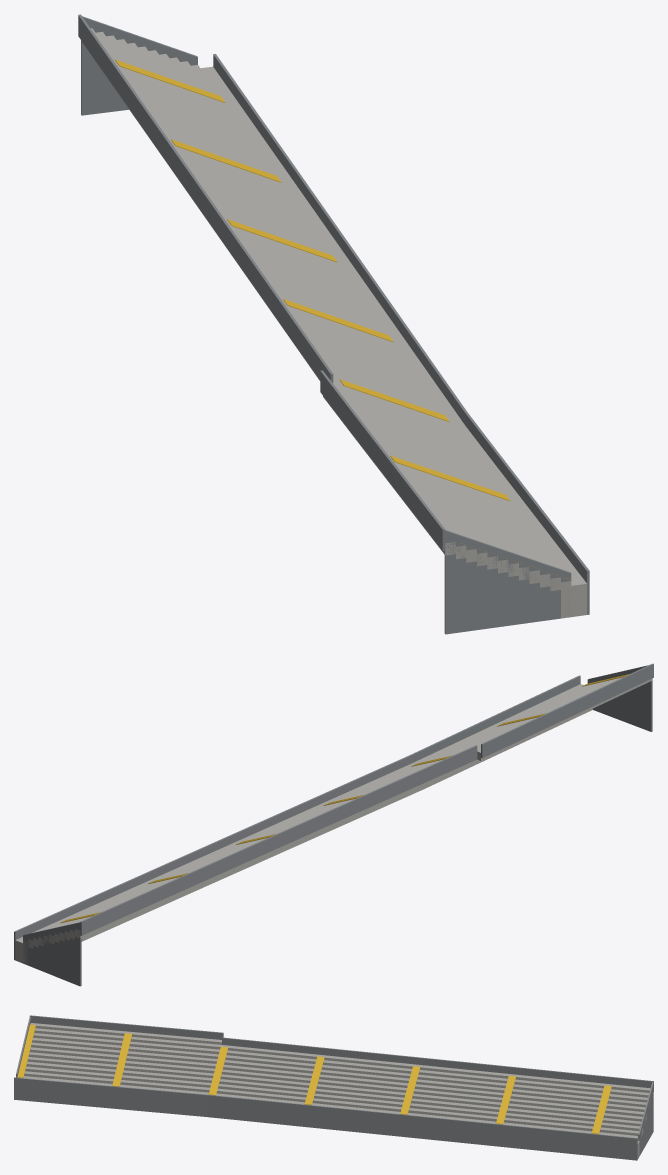
File: spo_stand_a_3.glb
3 views of the same model, one above another, from view 1: azimuth 30°, elevation 25°; view 2: azimuth 150°, elevation 25°; view 3: azimuth 270°, elevation 25° (orthographic). The views are drawn at different scales.
Visible parts, largest first — view 1: sao-paulo-sector-a-3; view 2: sao-paulo-sector-a-3; view 3: sao-paulo-sector-a-3.
Part boxes in pixels (bbox=[...]): sao-paulo-sector-a-3: bbox=[78, 14, 589, 634]; sao-paulo-sector-a-3: bbox=[14, 663, 653, 986]; sao-paulo-sector-a-3: bbox=[14, 1015, 653, 1160].
Size of the model in its own units: 31.82 by 8.4 by 92.75.
